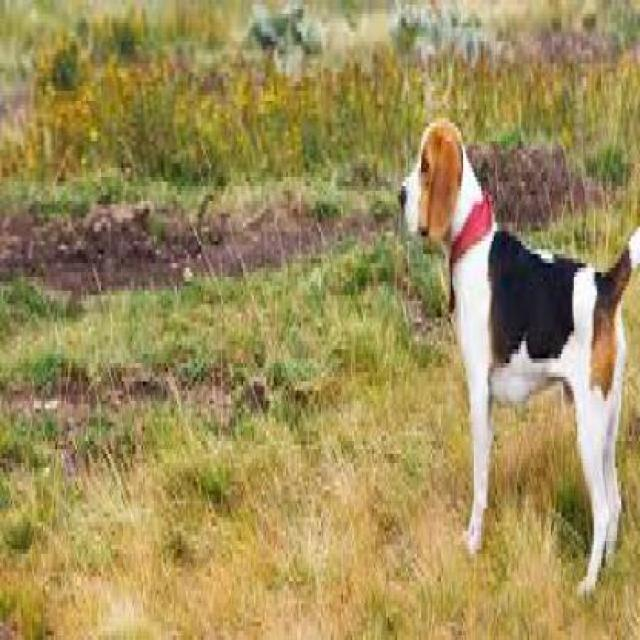Dog: (396, 109, 638, 603)
